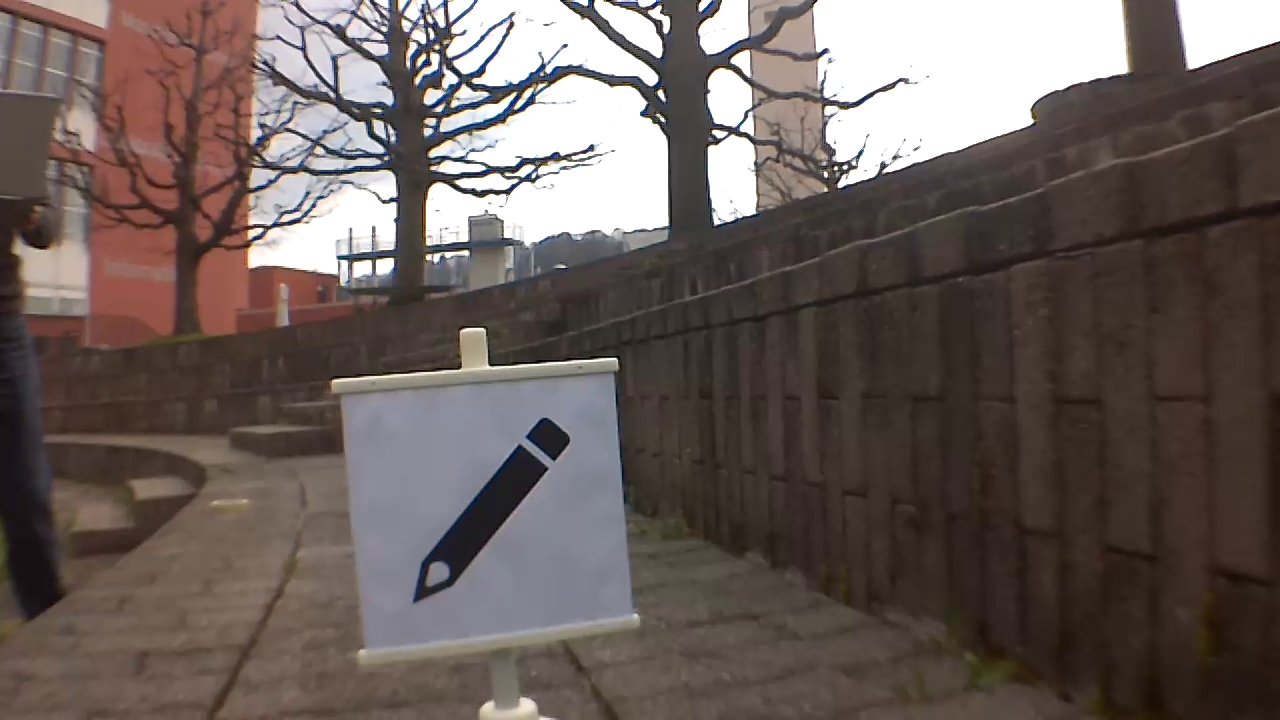pencil: (409, 411, 578, 604)
